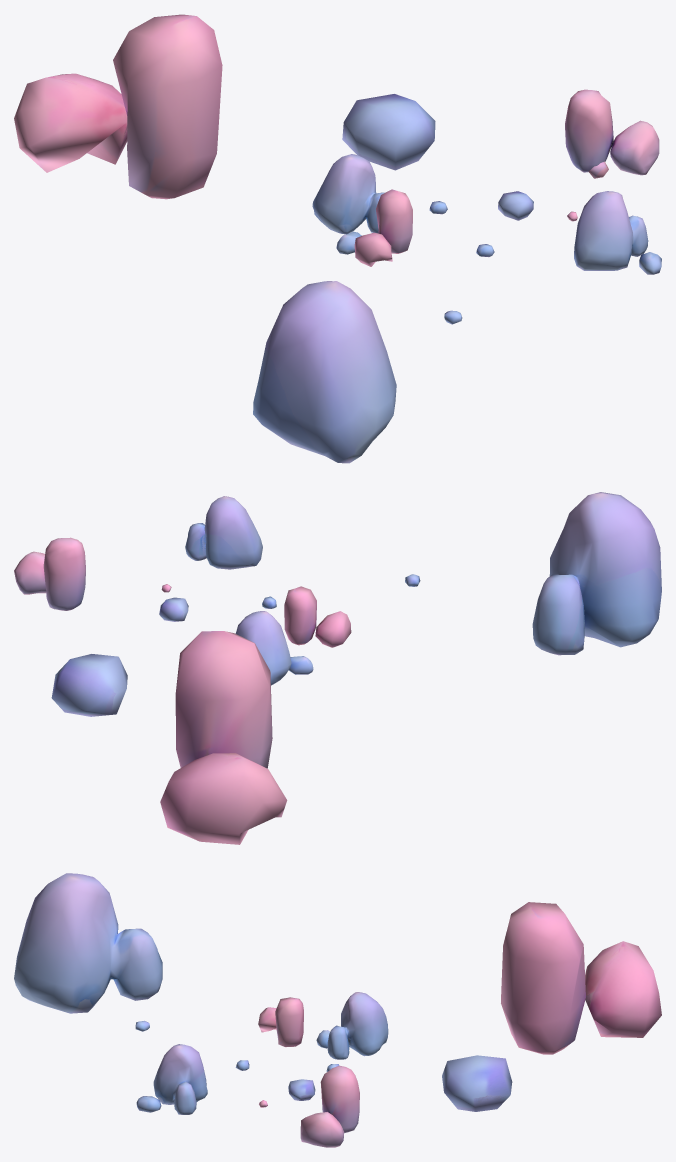
File: rock.gltf
3 renders of one model, top to bottom at view 1: azimuth 30°, elevation 25°; view 2: azimuth 150°, elevation 25°; view 3: azimuth 270°, elevation 25°, orthographic. The views are drawn at different scales.
Parts seen in each view (by area): view 1: 돌; view 2: 돌; view 3: 돌.
Boxes of the visible parts, <box> form: 돌: <box>14,14,661,463</box>; 돌: <box>14,492,661,844</box>; 돌: <box>14,873,661,1147</box>.
Bounding box in the file's own units: 3.57 × 1.14 × 4.52.
Materials: 1 (1 with a texture image).
